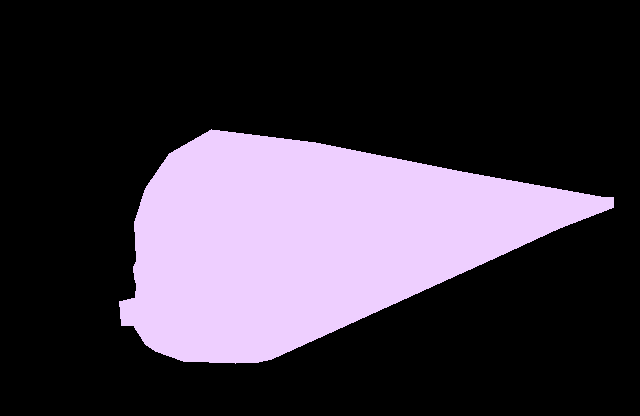Train: (119, 129, 614, 363)
